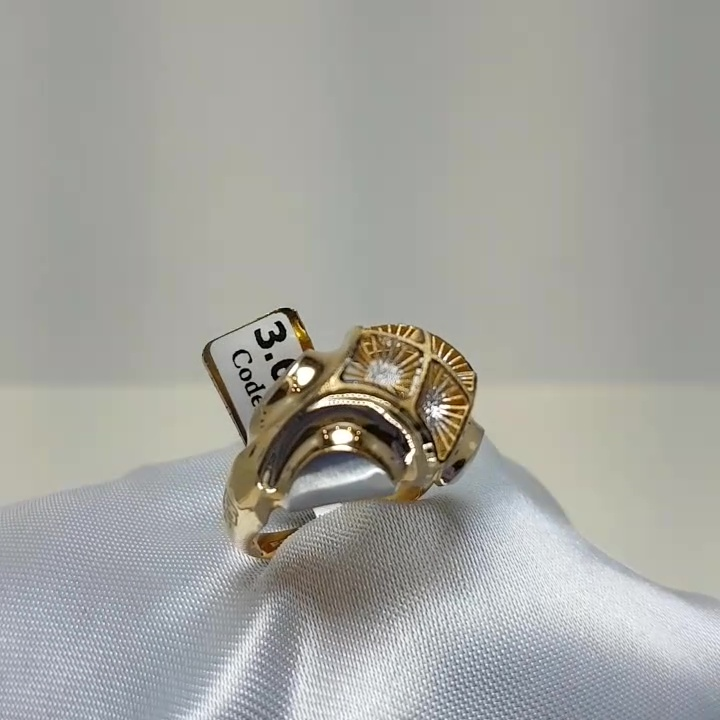Ring 2: (172, 287, 509, 550)
